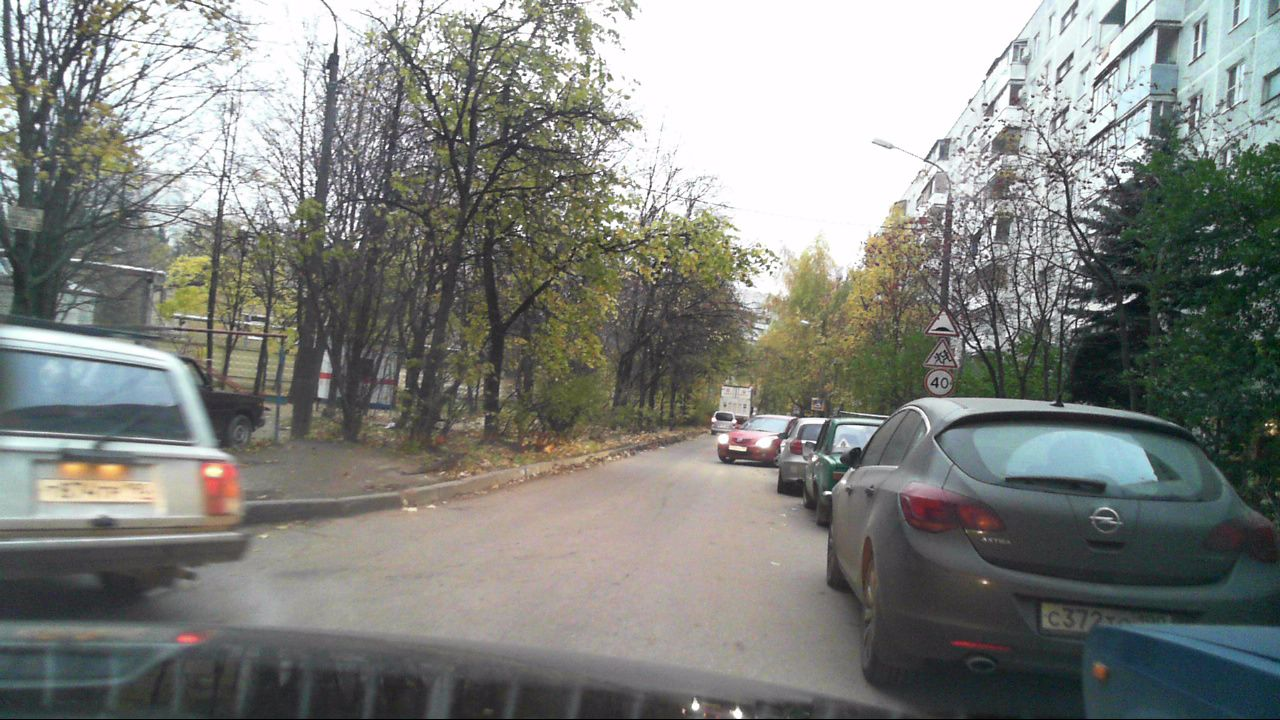speed_warning_40: (924, 368, 954, 395)
